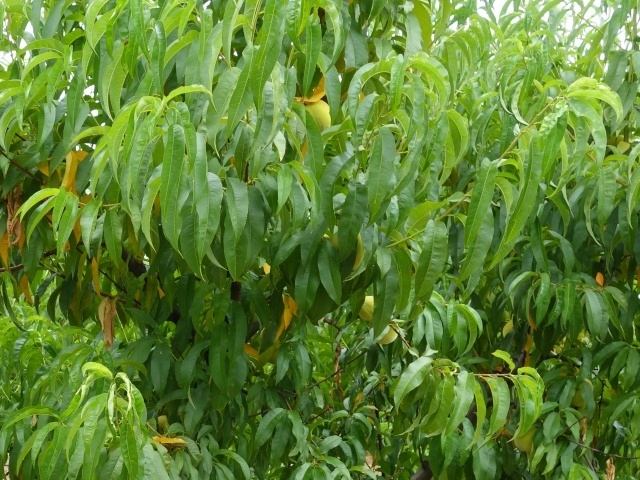peach: (305, 93, 335, 133), (374, 318, 402, 351), (511, 424, 535, 455), (358, 293, 378, 324)
